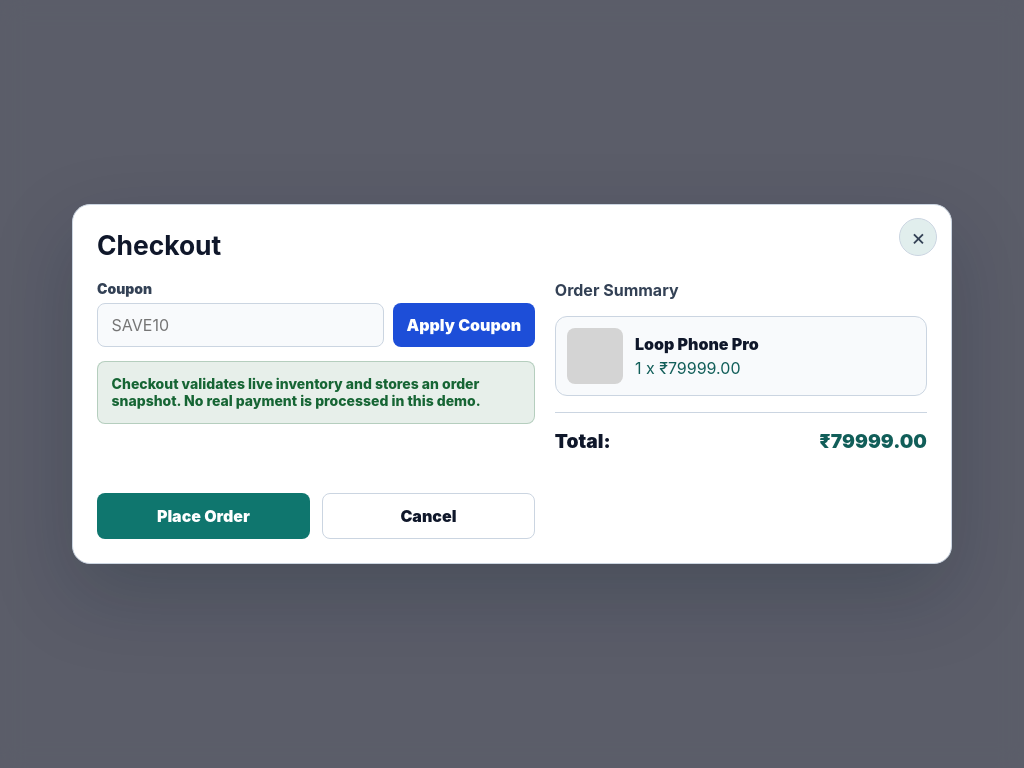
Test: Checkout › creates an order from cart items
This screenshot has width=1024, height=768.
Click the button "Place Order": x=203, y=516 [97,493,310,539]
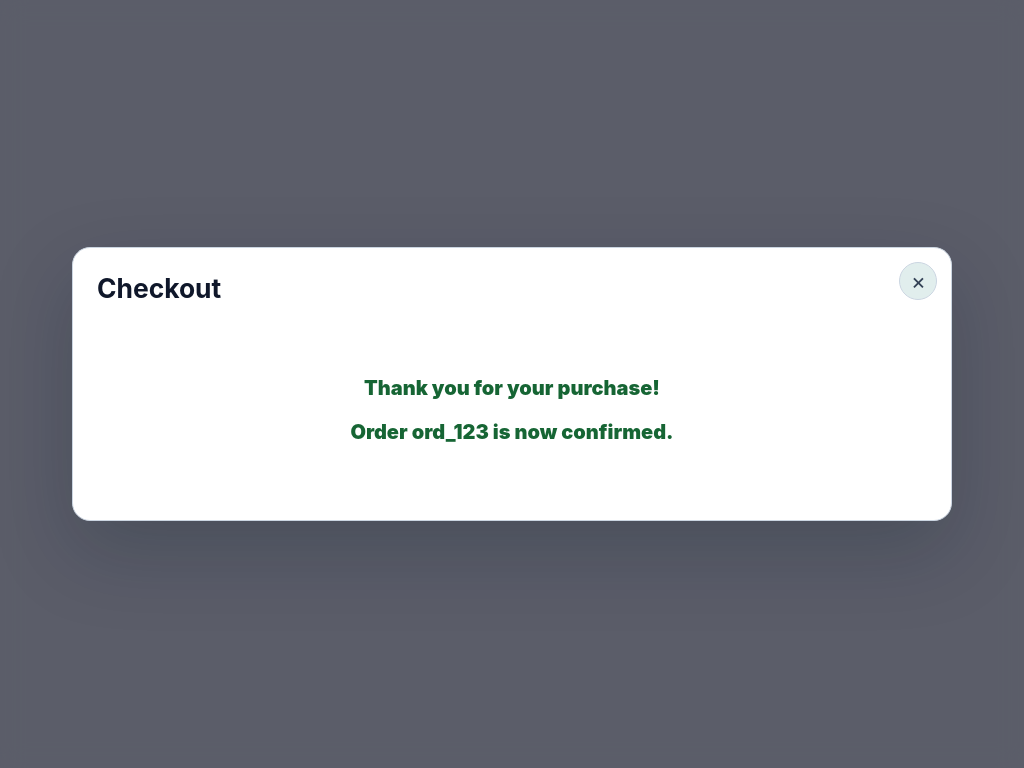
expect the text "Thank you for your purchase!" is shown: met, box [364,376,660,400]
expect the text "Order ord_123 is now confirmed." is shown: met, box [350,420,674,444]
